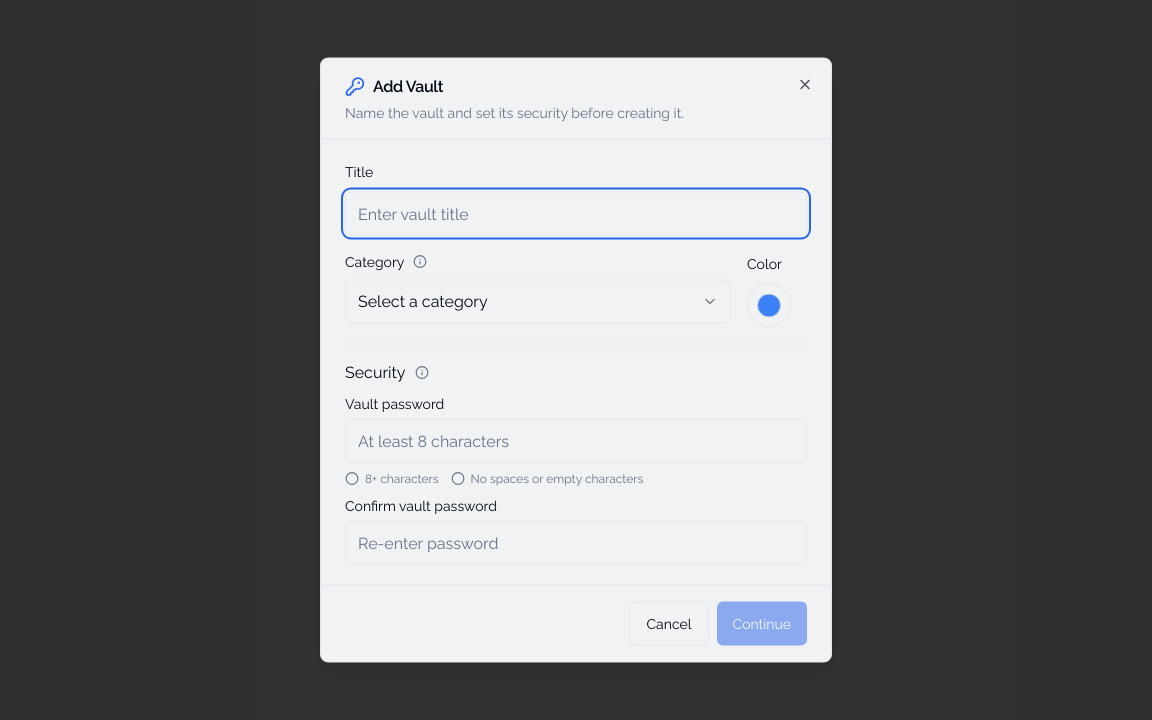
CreateItemModal vault flow › does not prepare a vault until the password is valid and confirmed
The width and height of the screenshot is (1152, 720).
Type "Secrets" into the field labelled "Title" at point(576, 214), box [345,192,807,236]
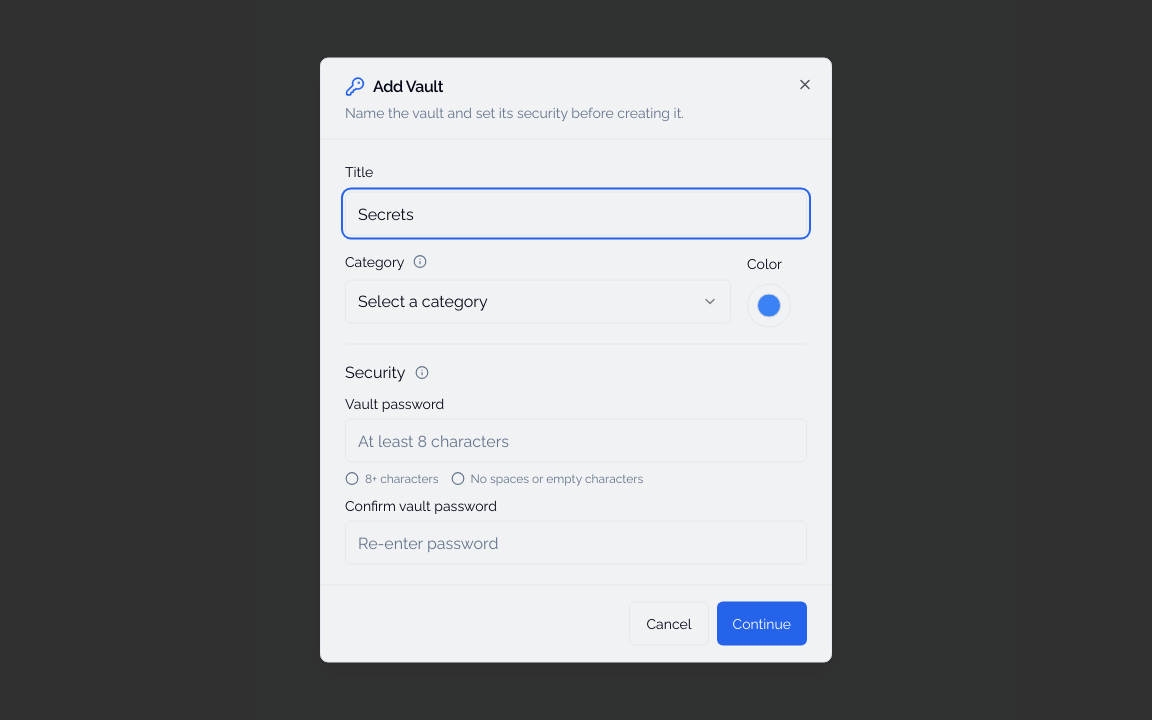
Type "password-one" into the password field labelled "Vault password" at point(576, 440), box [345,418,807,462]
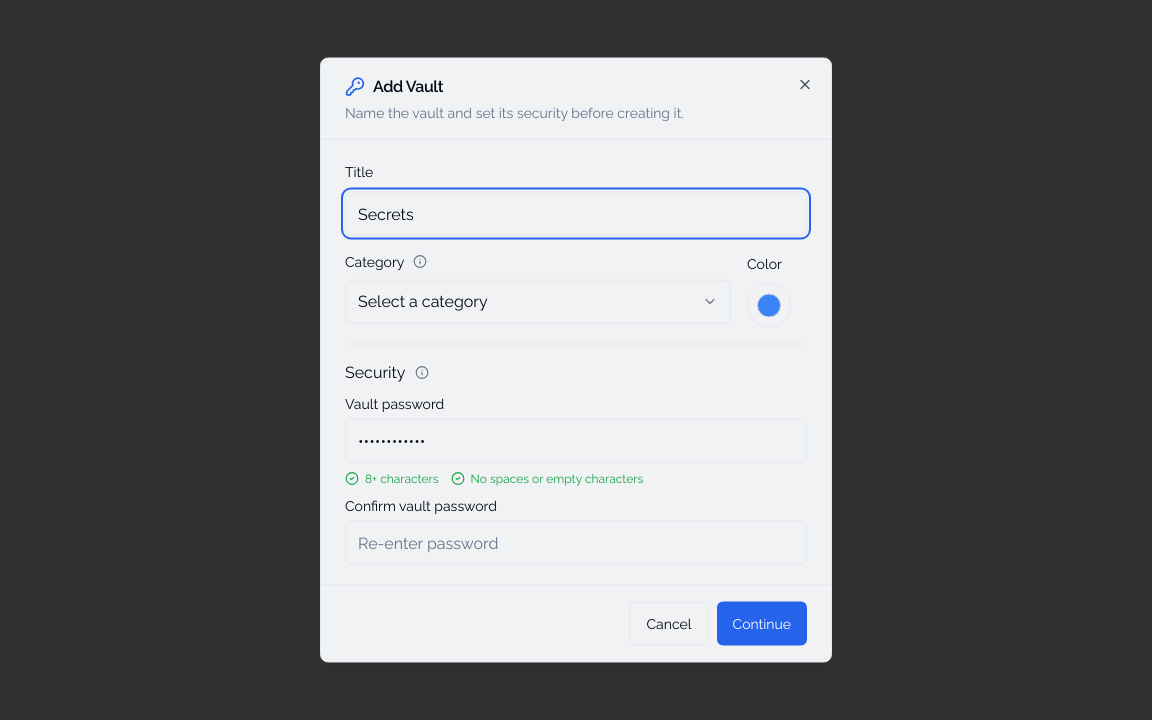
Type "password-two" into the password field labelled "Confirm vault password" at point(576, 542), box [345,520,807,564]
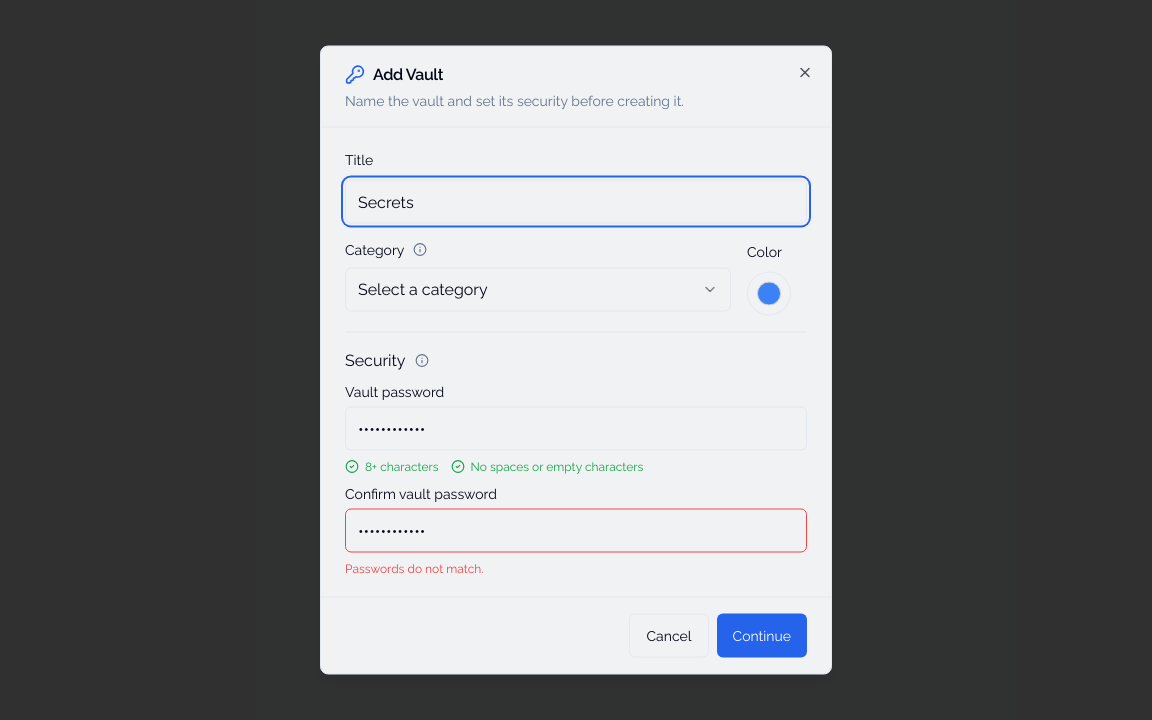
Click the button "Continue" at point(762, 636), box [716,614,807,658]
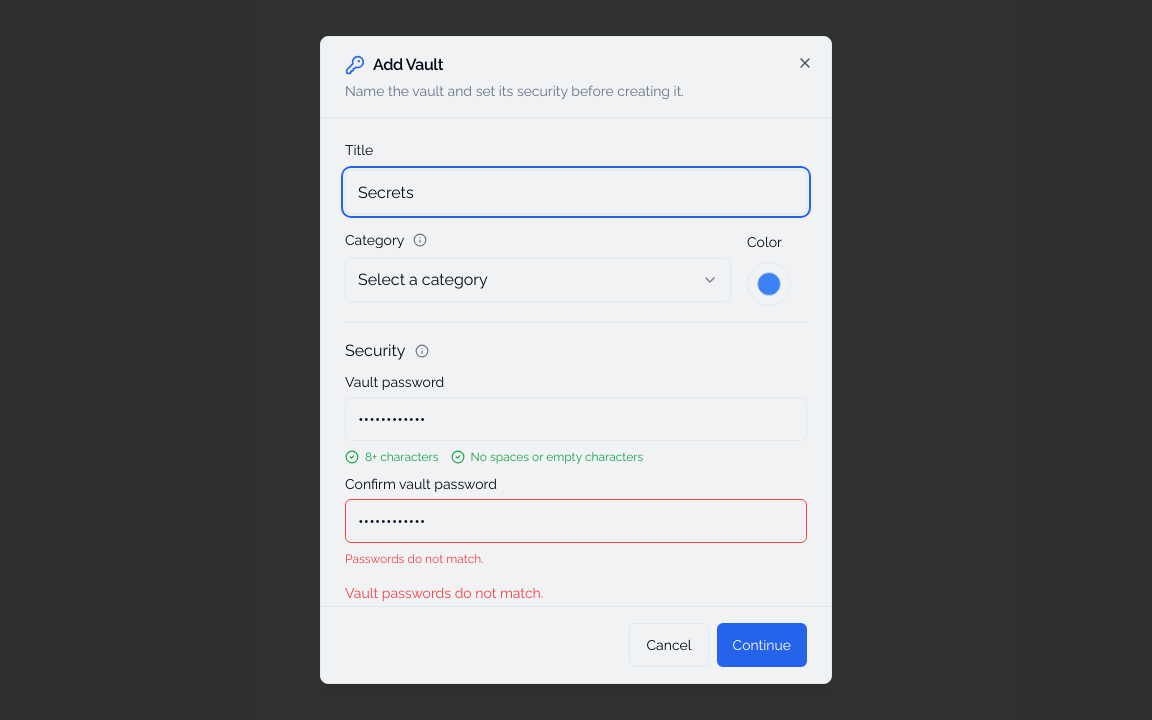
Expected: the text "Vault passwords do not match." is shown, [345,585,543,601]
